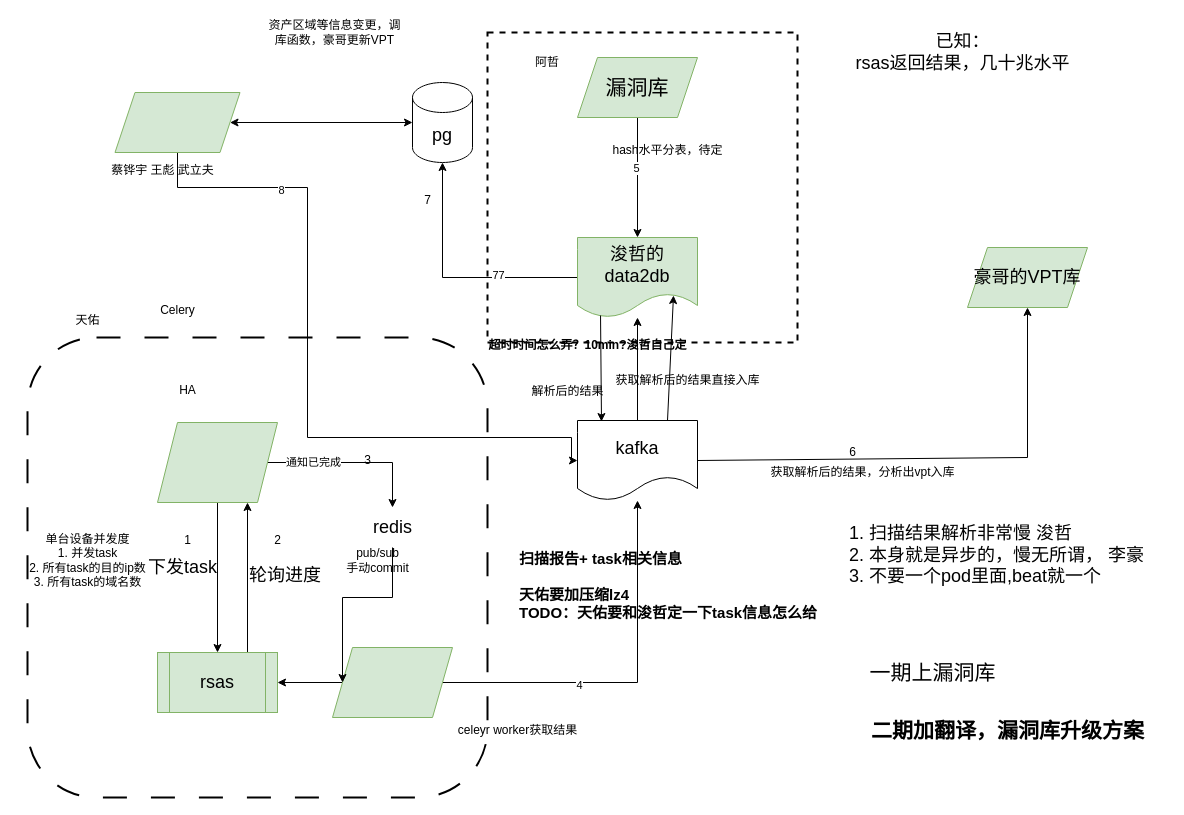
Some shapes in this 1184 by 815 pixel diagram are drawn without their labels. Each missing label, with the box of its shape:
Webapi: (114, 92, 240, 152)
扫描 task: (156, 422, 278, 502)
获取结果？: (332, 646, 452, 718)
